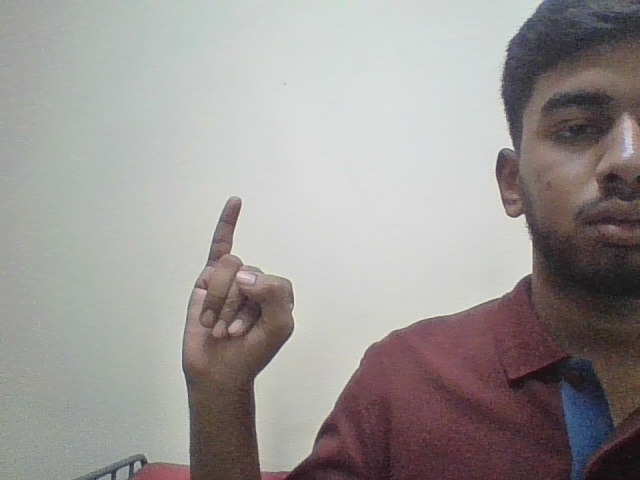I: (172, 176, 308, 399)
